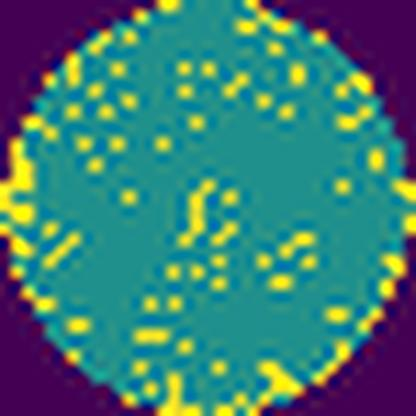Edge-Loc: (212, 354, 309, 416), (0, 138, 35, 226), (143, 369, 207, 415)
